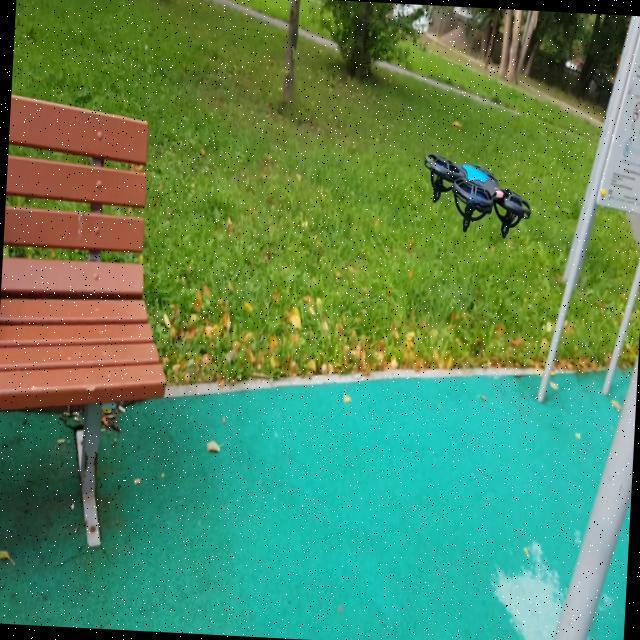Drons: (414, 147, 535, 248)
